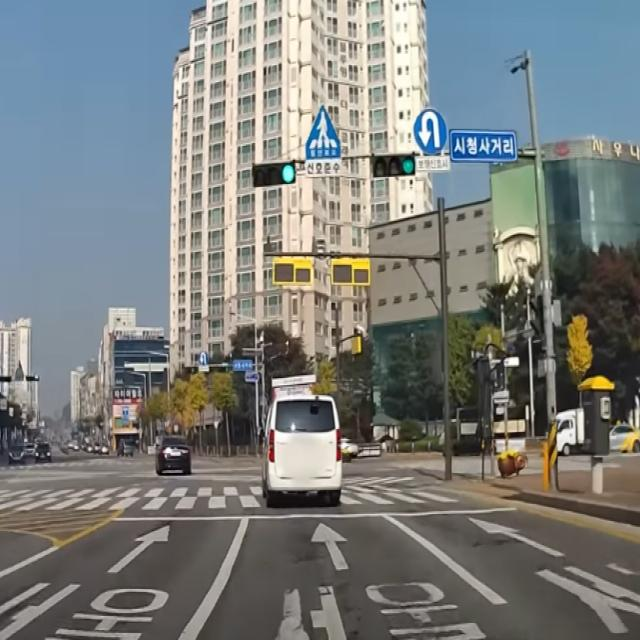Green Light: (280, 162, 294, 184), (401, 155, 414, 177)
